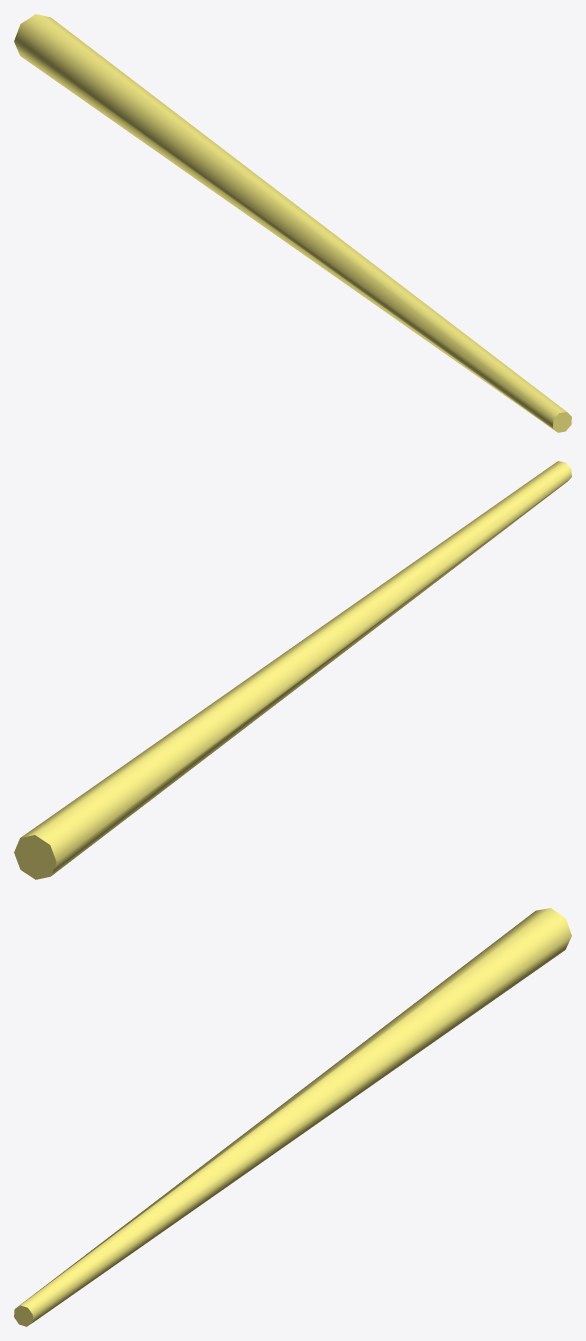
The model's file is Chopstick02.fbx.
The picture shows the model from 3 angles, top to bottom: view 1: azimuth 30°, elevation 25°; view 2: azimuth 150°, elevation 25°; view 3: azimuth 330°, elevation 25°; orthographic projection.
Parts seen in each view (by area): view 1: Utensils01_Uv_v001:ChopStic02_Modelling_v001:ChopStick02_Bod; view 2: Utensils01_Uv_v001:ChopStic02_Modelling_v001:ChopStick02_Bod; view 3: Utensils01_Uv_v001:ChopStic02_Modelling_v001:ChopStick02_Bod.
Boxes of the visible parts, box(x1,y1,x2,y2) form: Utensils01_Uv_v001:ChopStic02_Modelling_v001:ChopStick02_Bod: box(14, 14, 571, 432); Utensils01_Uv_v001:ChopStic02_Modelling_v001:ChopStick02_Bod: box(14, 461, 571, 879); Utensils01_Uv_v001:ChopStic02_Modelling_v001:ChopStick02_Bod: box(14, 908, 571, 1326).
Size of the model in its own units: 1.34 by 1.34 by 28.68.
1 material, 1 textured.
